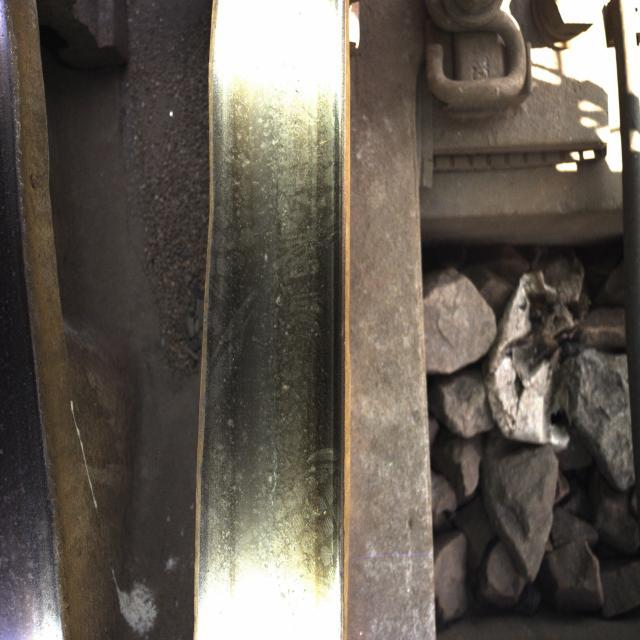normal: (220, 30, 331, 596)
